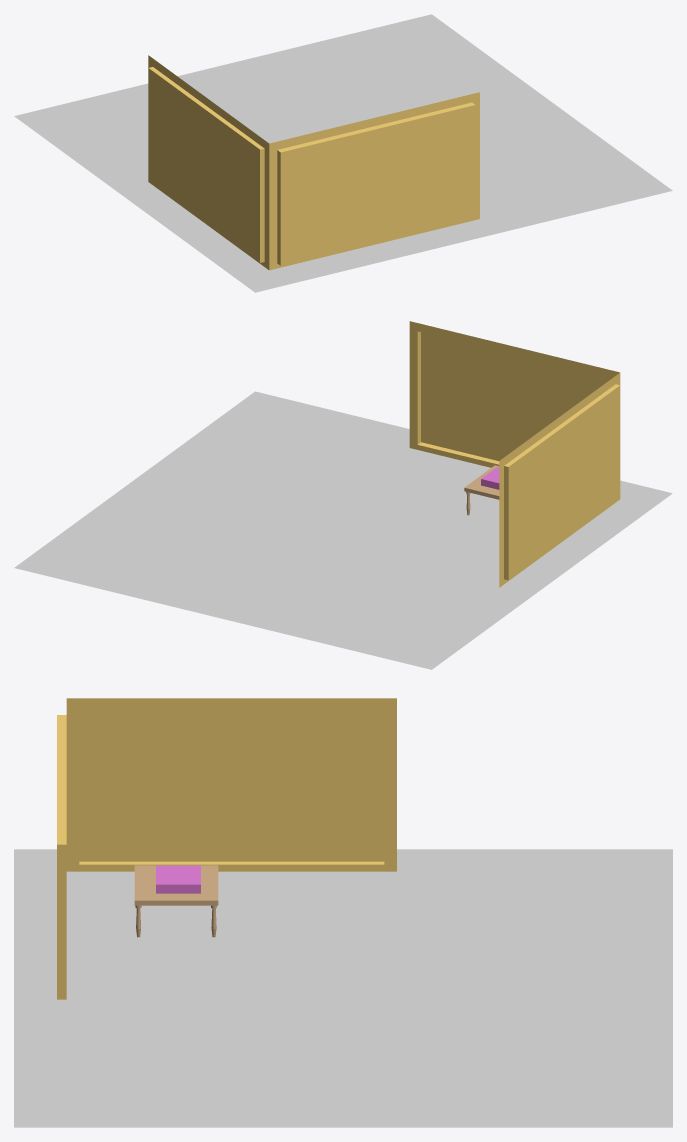
Rendered from kitchen.glb.
The picture shows the model from 3 angles, top to bottom: view 1: azimuth 30°, elevation 25°; view 2: azimuth 150°, elevation 25°; view 3: azimuth 270°, elevation 25°; orthographic projection. The views are drawn at different scales.
Visible parts, largest first — view 1: Floor, Walls; view 2: Floor, Walls; view 3: Floor, Walls, Table, Cake.
Boxes of the visible parts, x1,y1,x2,y2 form: Floor: (14, 14, 672, 292); Walls: (148, 55, 479, 270); Floor: (14, 391, 672, 669); Walls: (409, 321, 620, 587); Floor: (14, 849, 672, 1127); Walls: (57, 698, 396, 999); Table: (134, 865, 218, 905); Cake: (156, 865, 200, 893).
Bounding box in the file's own units: 10 × 2.98 × 10.
